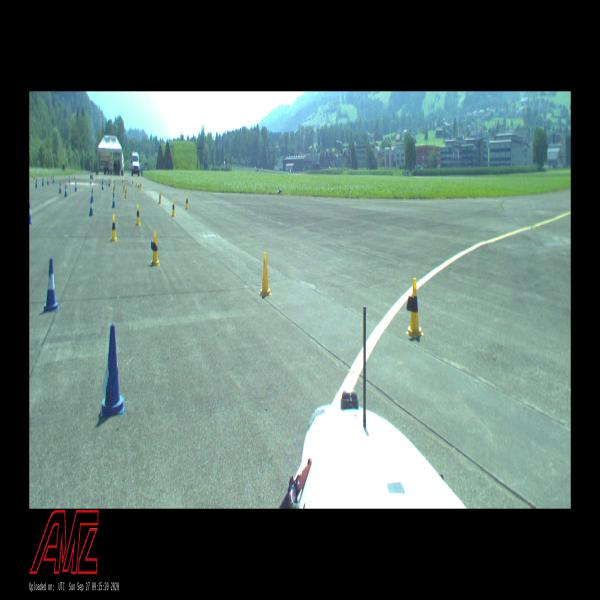blue_cone: (101, 323, 124, 417), (42, 259, 59, 313), (90, 199, 94, 216), (29, 202, 32, 224), (112, 193, 116, 208), (59, 182, 62, 193), (91, 189, 93, 202), (65, 185, 67, 197), (75, 180, 77, 192), (102, 181, 104, 190), (42, 177, 44, 186), (47, 176, 49, 185), (36, 178, 37, 188), (53, 175, 54, 183)
yellow_cone: (406, 278, 424, 337), (260, 252, 272, 296), (151, 232, 160, 266), (111, 215, 117, 241), (136, 204, 140, 225), (172, 200, 176, 216), (158, 192, 162, 204), (186, 195, 189, 209), (125, 186, 127, 199), (123, 183, 125, 193), (138, 182, 140, 192), (33, 174, 35, 182), (51, 174, 52, 183), (136, 180, 137, 188), (122, 178, 123, 185), (132, 179, 133, 186), (140, 183, 141, 190)
